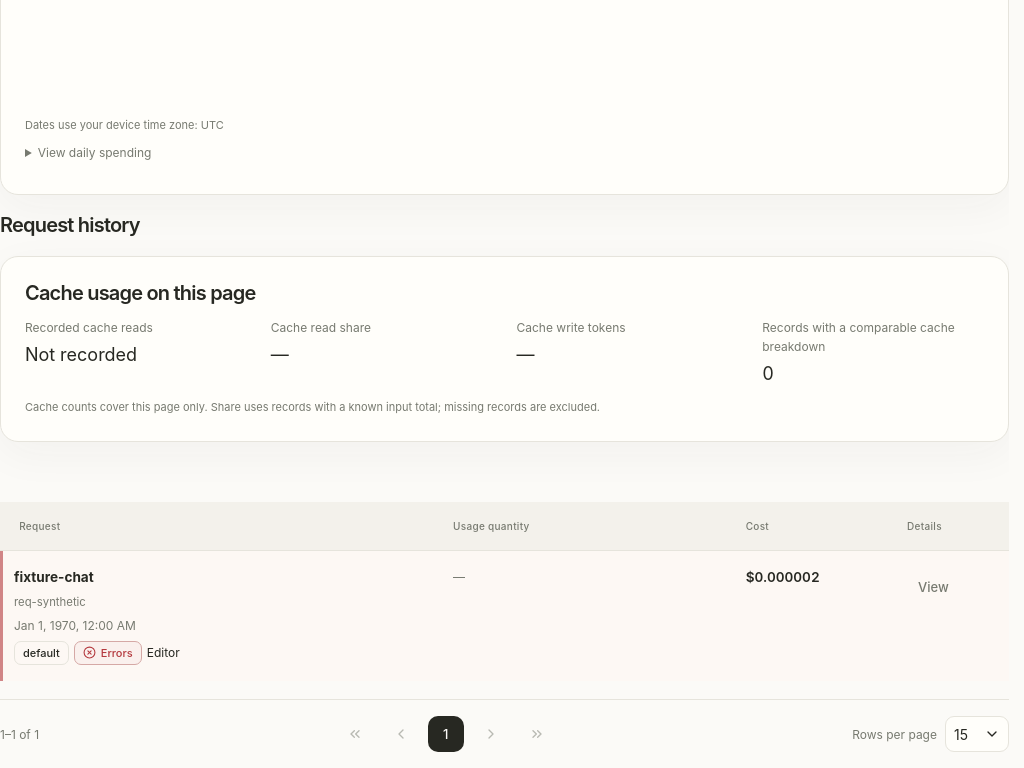
labels error records explicitly in the list and details
(page scrolled)
Expected: the text "Errors" is shown, x1=74 y1=641 x2=142 y2=665
Step 1. Click the button "View" → (933, 588), box x1=907 y1=566 x2=960 y2=608
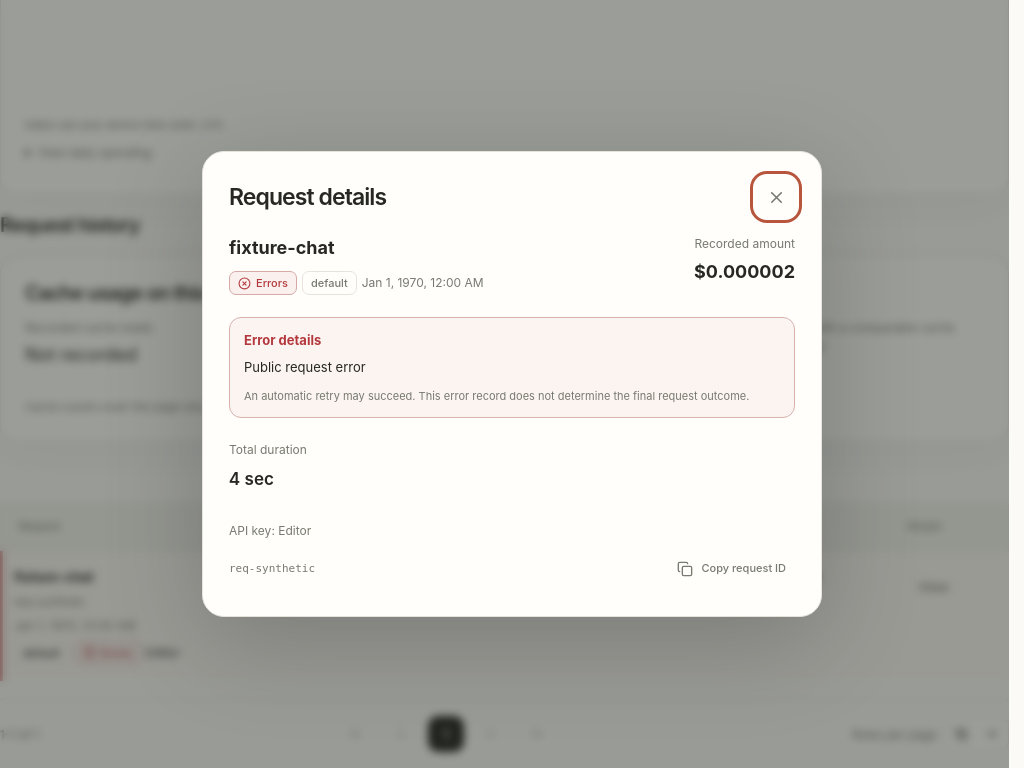
Now the text "Errors" is shown, box x1=229 y1=271 x2=297 y2=295
Now the element "Error details" shows "Public request error", box x1=244 y1=359 x2=366 y2=375
Now the element named "Response performance" is shown, box x1=229 y1=442 x2=307 y2=489
